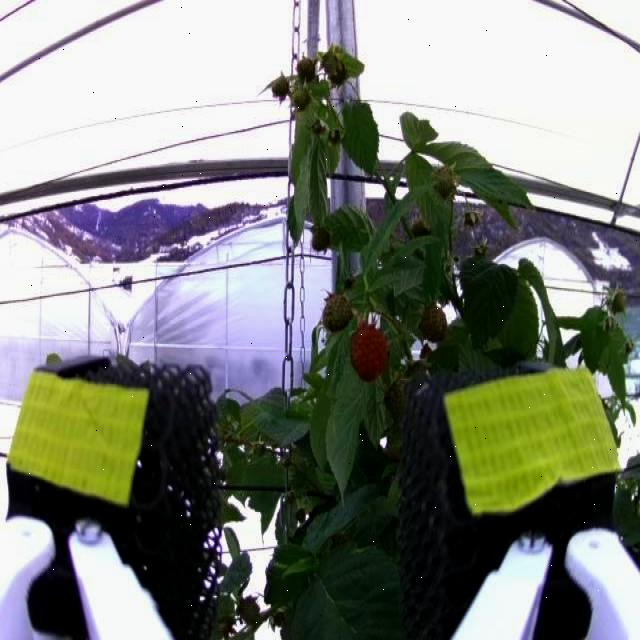Riped berries: (348, 321, 394, 384)
